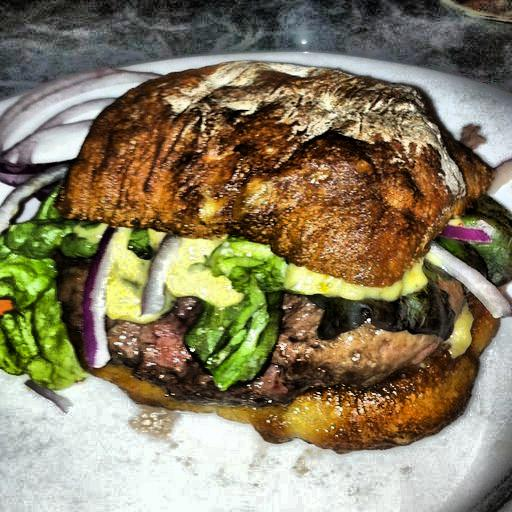burger: (68, 62, 478, 443)
